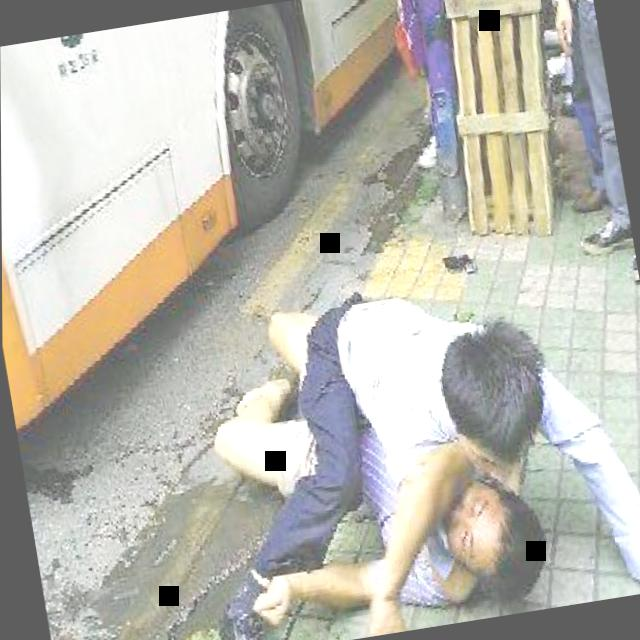Fall-Detected: (130, 205, 640, 640)
